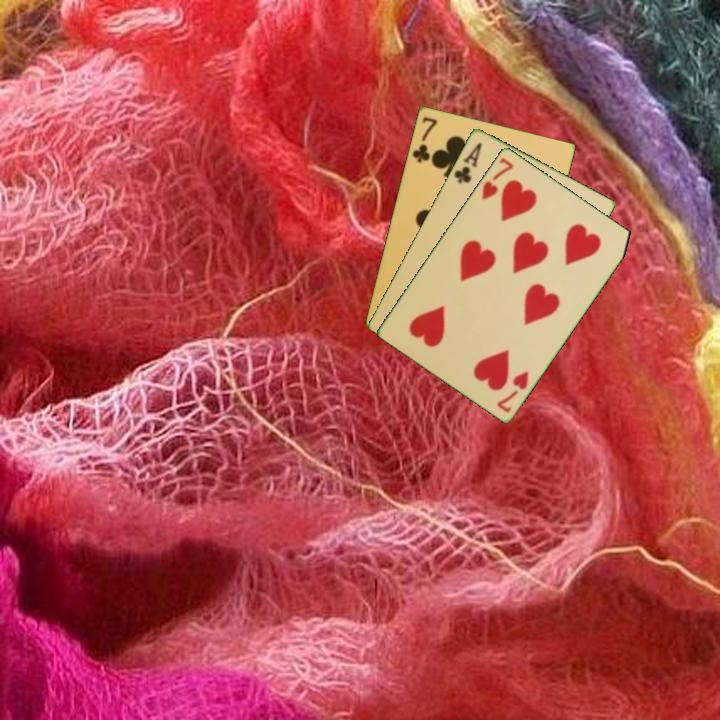7c: (408, 113, 440, 165)
7h: (493, 367, 532, 416), (478, 153, 516, 203)
Ac: (450, 139, 485, 186)
